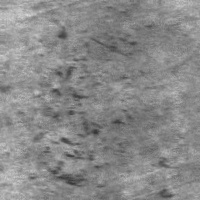rolled-in_scale: (77, 26, 169, 193)
